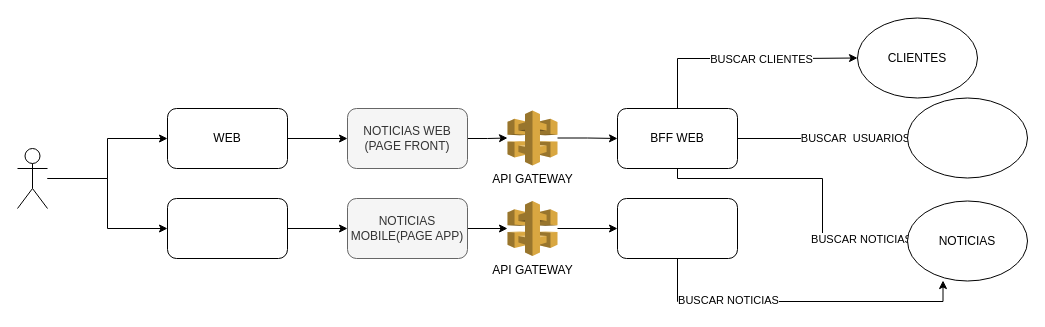
The diagram is 1045 pixels wide and 327 high, and some of its shapes have lost their labels. Here are the shapes that lost their labels. From the top down, the centre of each, then its label:
At [967,137]: "USERS".
At [32,178]: "User".
At [227,228]: "MOBILE".
At [677,228]: "BFF MOBILE".
